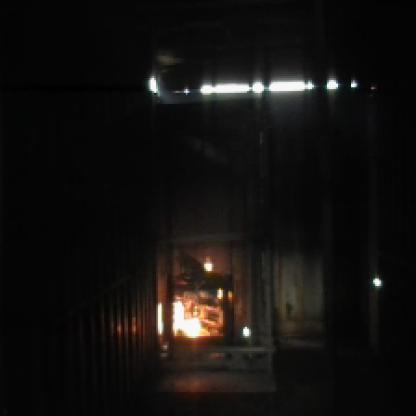Fire: (145, 254, 238, 344)
